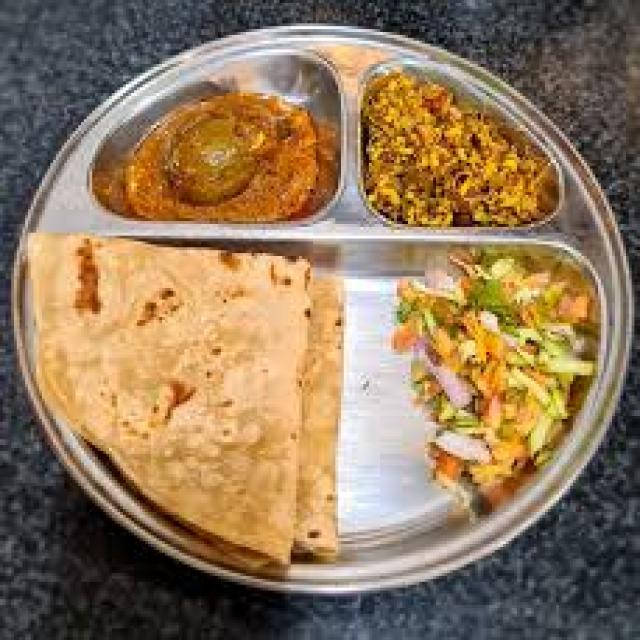chapathi: (18, 238, 374, 558)
